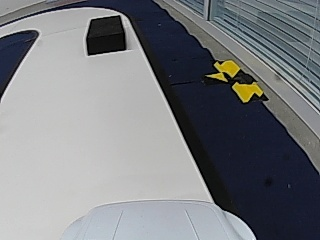block: (86, 16, 126, 55)
